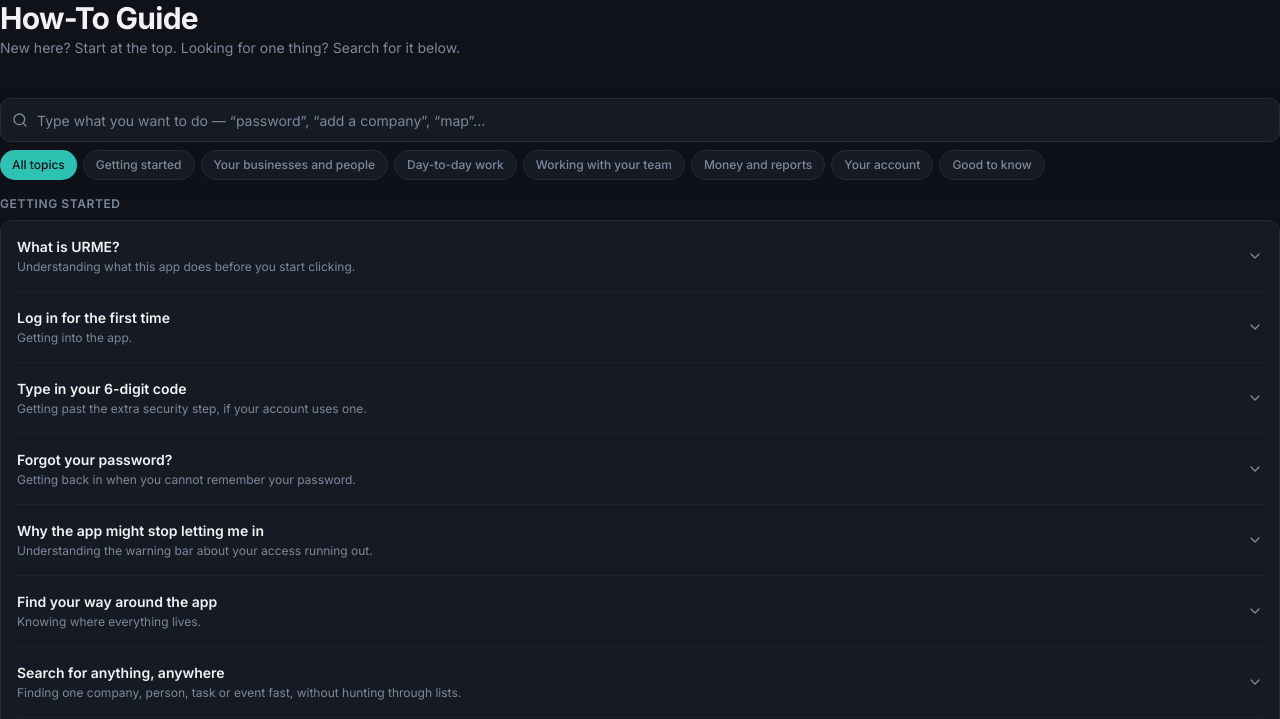
Scenario: How-To Guide page › browses by topic chip, and combines the chip with the search box
Click the button "Money and reports".
click(758, 165)  # box [691,150,825,180]
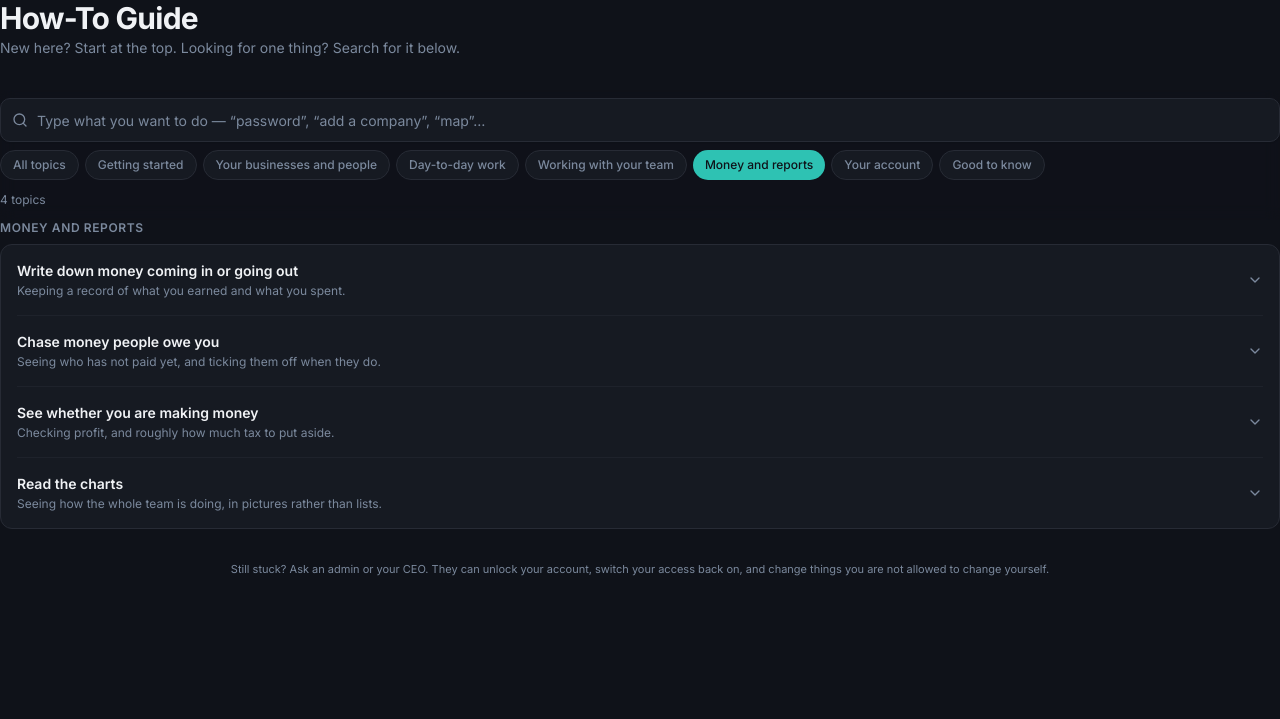
Expected: the text "Write down money coming in or going out" is shown, [17,261,346,281]
Expected: the button "Forgot your password?" is gone
Replace the text in the search field named "Search help topics" with "password" at (640, 120), box [0,98,1279,142]
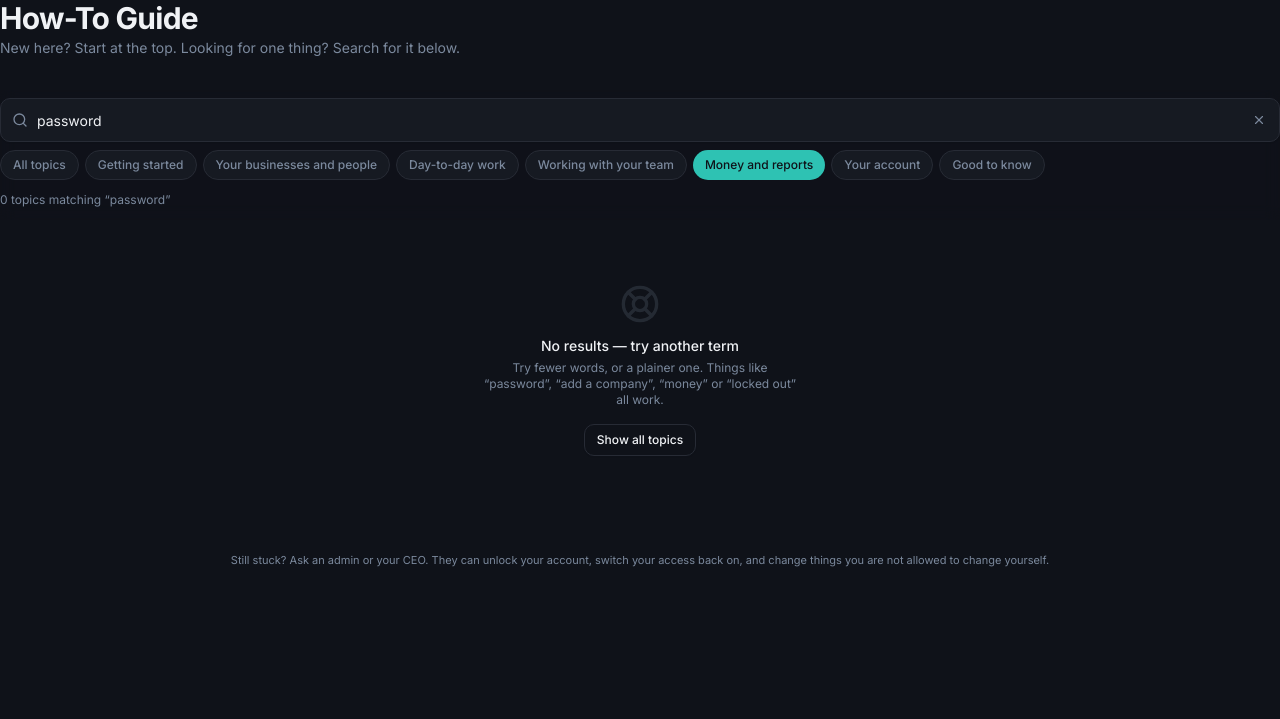
Expected: the text "No results — try another term" is shown, [541,336,739,356]
